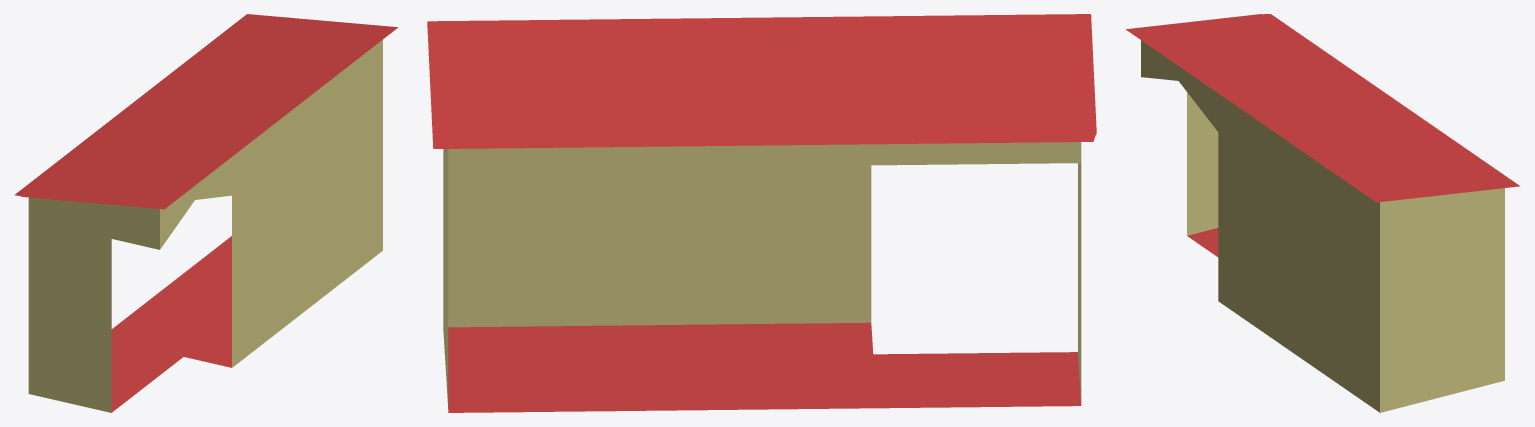
3 renders of one model, left to right at view 1: azimuth 30°, elevation 25°; view 2: azimuth 150°, elevation 25°; view 3: azimuth 270°, elevation 25°, orthographic. The views are drawn at different scales.
Bounding box in the file's own units: 21.99 × 17.52 × 10.61.
